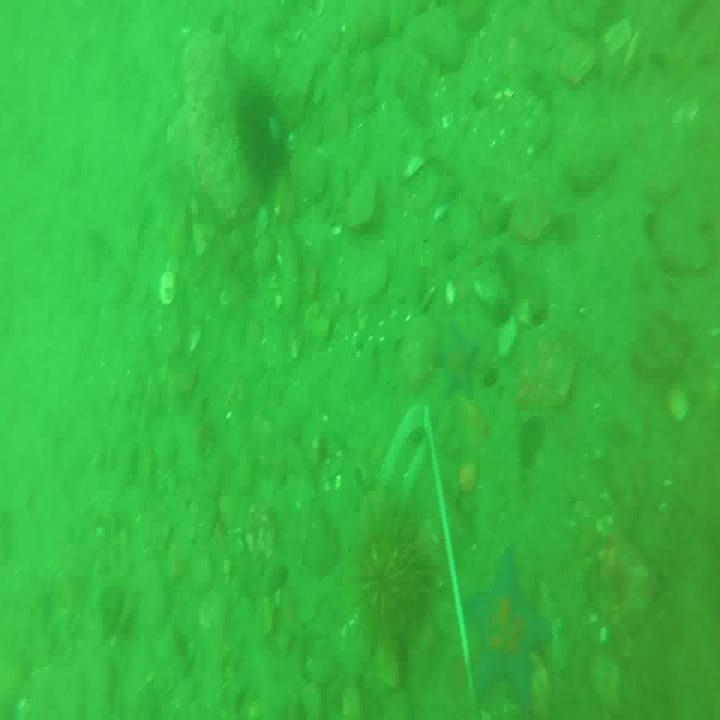echinus: (357, 500, 432, 660), (236, 73, 289, 180)
scallop: (666, 385, 692, 429), (603, 20, 632, 59), (158, 271, 176, 305), (406, 155, 424, 179), (446, 280, 456, 304)
starfish: (465, 553, 552, 720), (432, 325, 476, 410)
